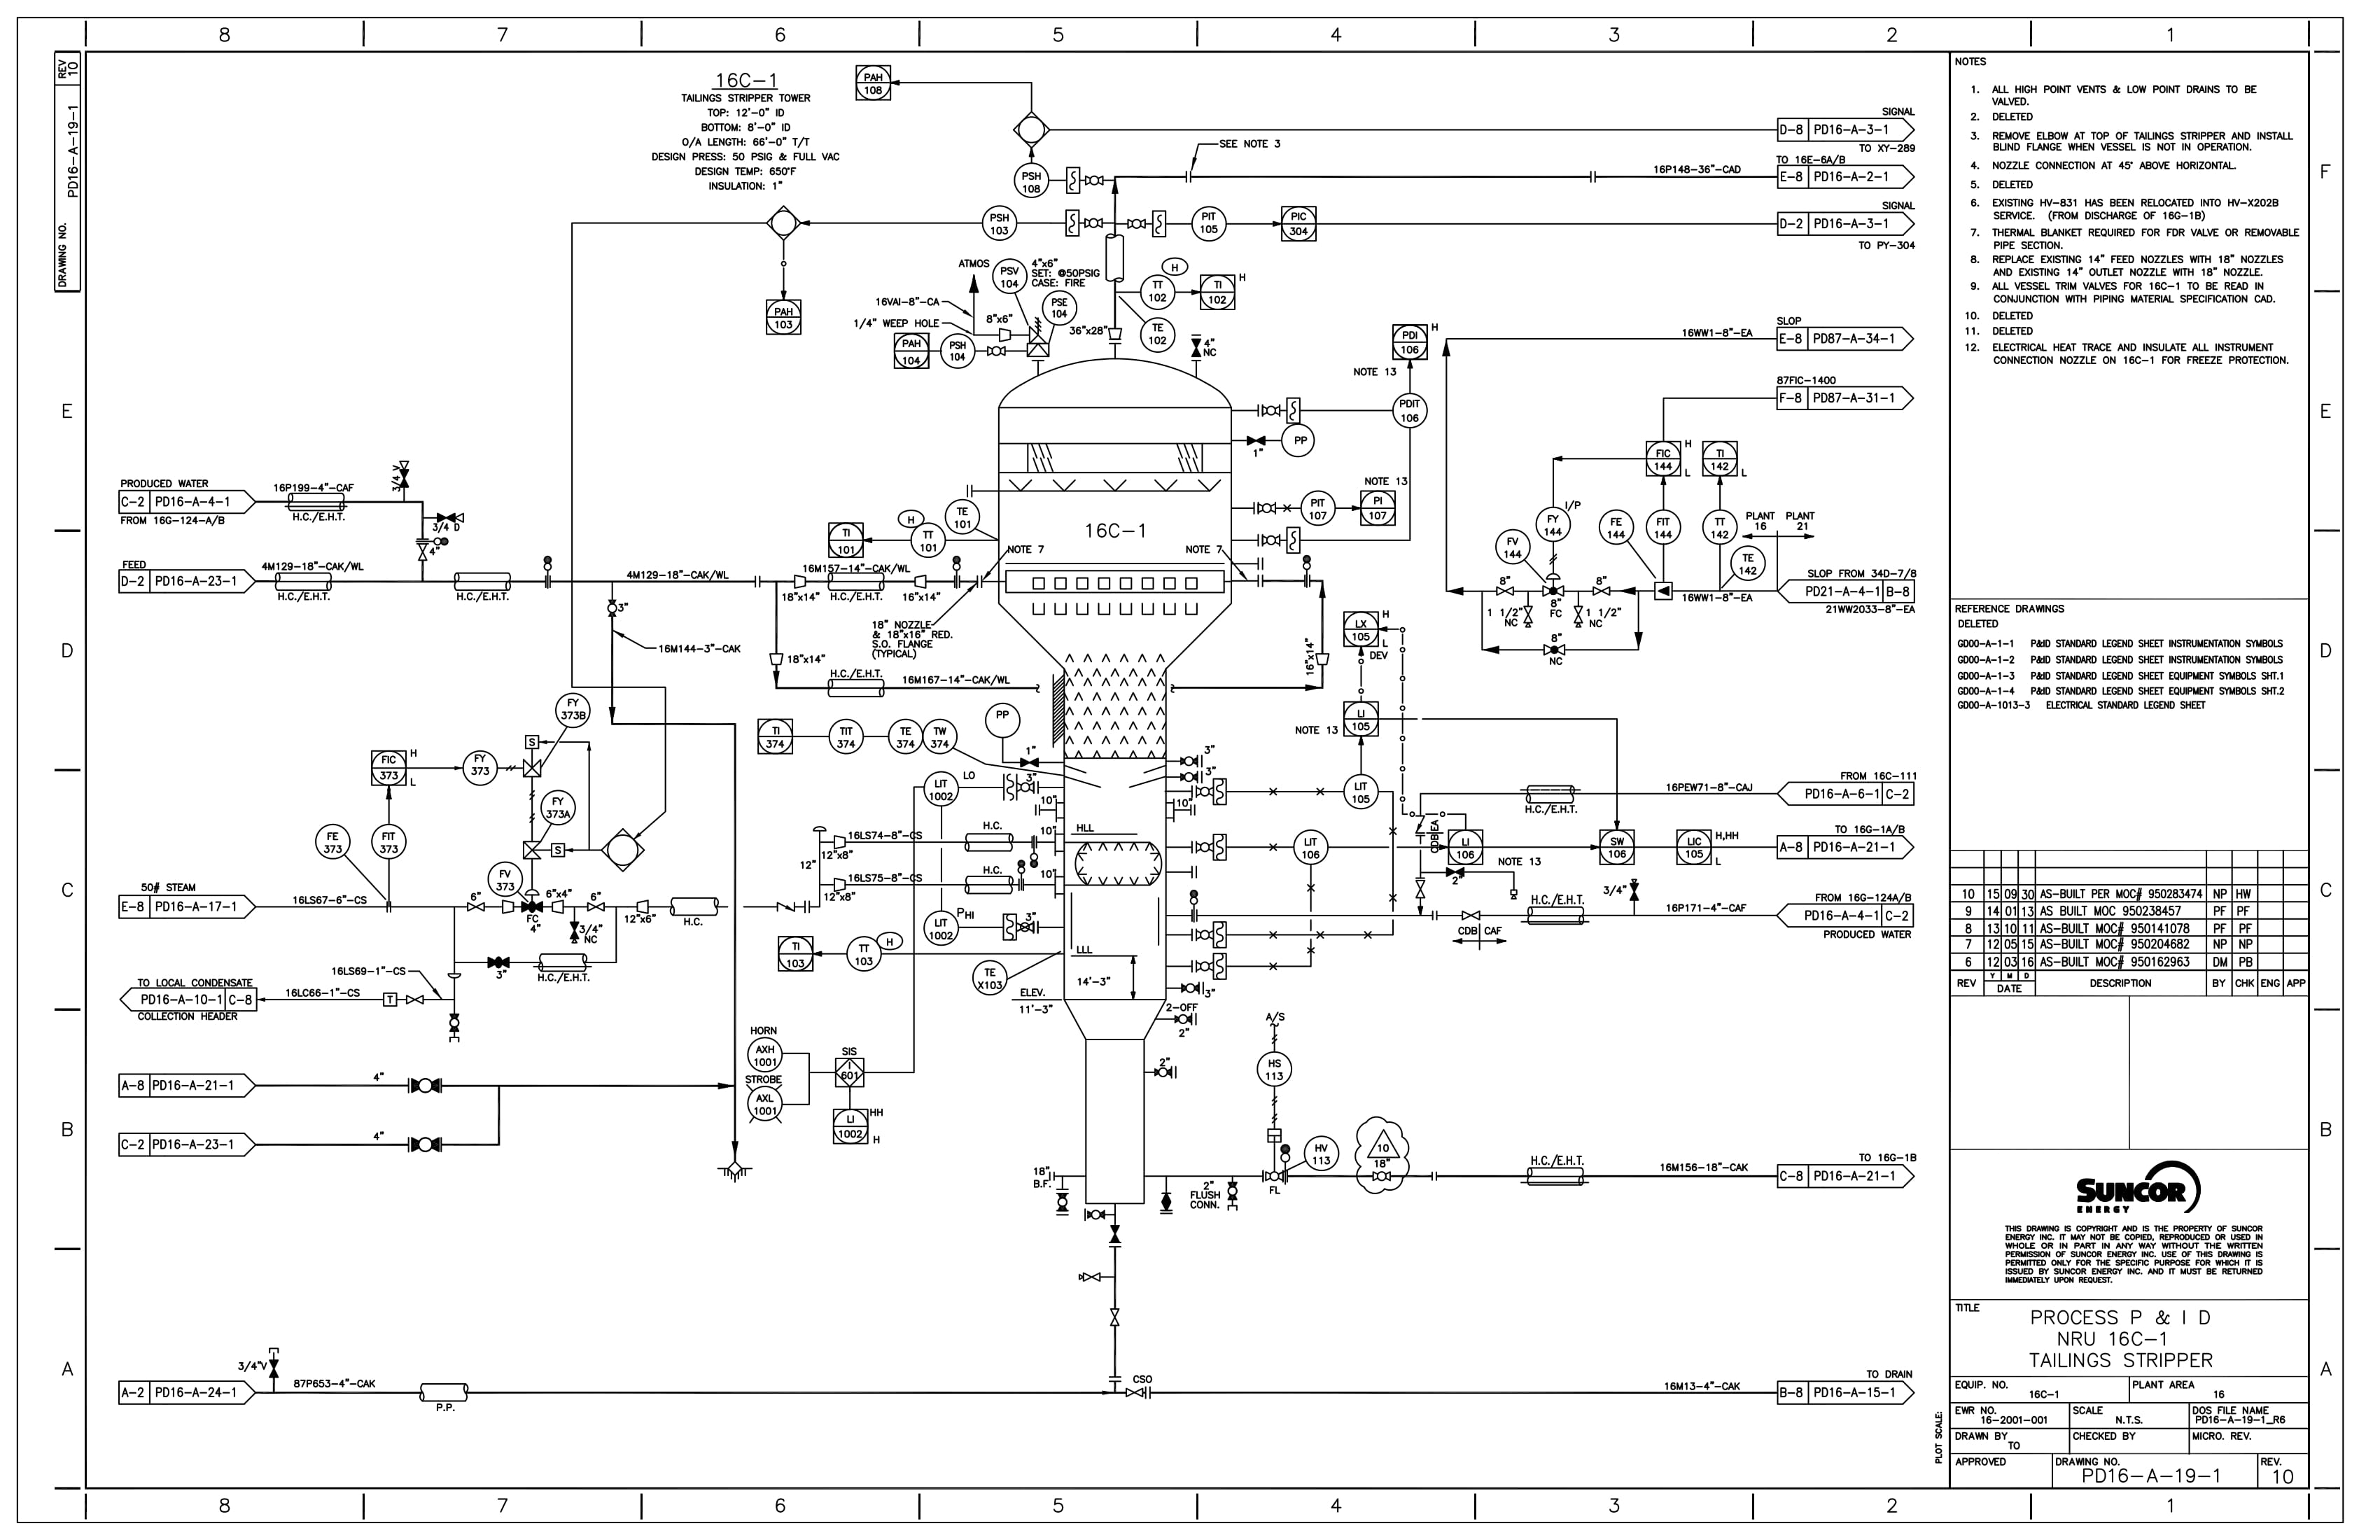Inline Instrument: (1183, 198, 1239, 248), (1535, 494, 1582, 551), (1641, 506, 1698, 553), (453, 741, 503, 791), (827, 718, 876, 768), (885, 708, 925, 765), (1298, 487, 1346, 534), (1703, 501, 1747, 551), (1006, 163, 1060, 203), (1393, 390, 1440, 435), (918, 904, 964, 949), (1497, 520, 1539, 571), (1599, 508, 1639, 560), (921, 768, 966, 813), (373, 820, 416, 867), (1252, 1046, 1301, 1087), (980, 203, 1027, 243), (1136, 269, 1178, 312), (314, 824, 356, 867), (1292, 820, 1331, 867), (925, 713, 959, 763), (843, 931, 885, 973), (940, 331, 982, 371), (1728, 545, 1768, 584)
